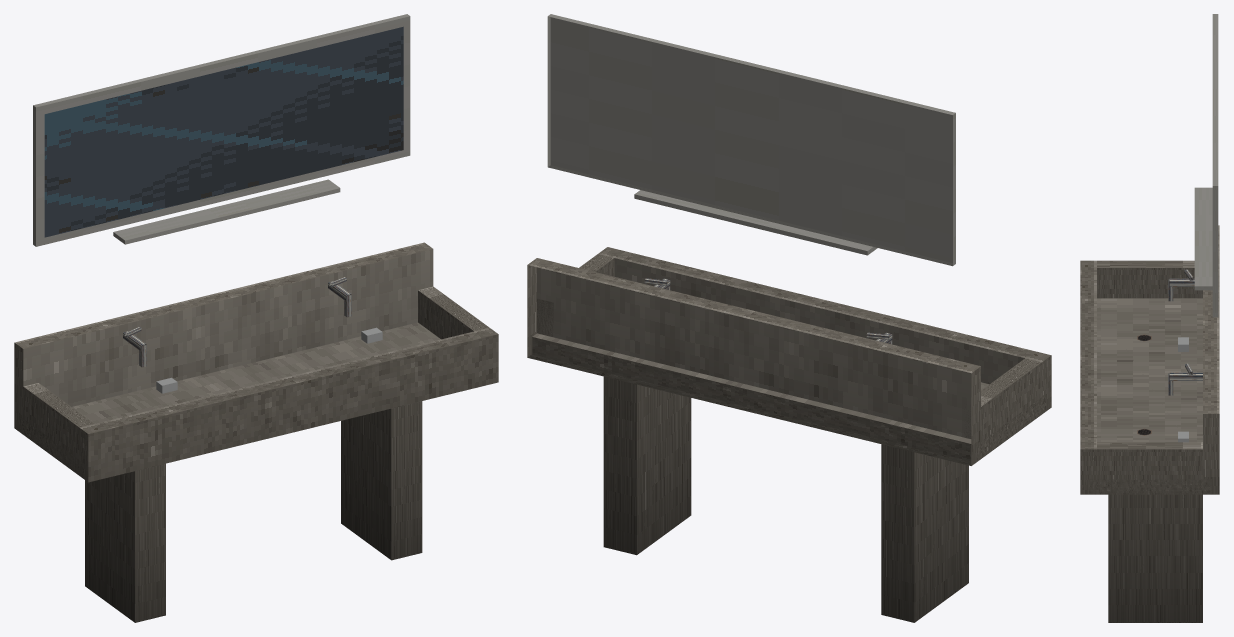
The model's file is prop_hallsink-16-1.glb.
The picture shows the model from 3 angles, left to right: view 1: azimuth 30°, elevation 25°; view 2: azimuth 150°, elevation 25°; view 3: azimuth 270°, elevation 25°; orthographic projection. The views are drawn at different scales.
Visible parts, largest first — view 1: prop_hallsink-16-1; view 2: prop_hallsink-16-1; view 3: prop_hallsink-16-1.
Part boxes in pixels (box(x1,y1,x2,y2)): prop_hallsink-16-1: box(14, 14, 498, 622); prop_hallsink-16-1: box(527, 14, 1051, 622); prop_hallsink-16-1: box(1080, 14, 1219, 622).
Size of the model in its own units: 1.6 by 1.81 by 0.5.
Materials: 4 (4 with a texture image).
